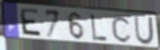6: (67, 11, 86, 41)
7: (44, 8, 62, 40)
C: (111, 15, 133, 44)
E: (20, 8, 44, 39)
L: (89, 13, 109, 42)
U: (133, 16, 155, 46)
